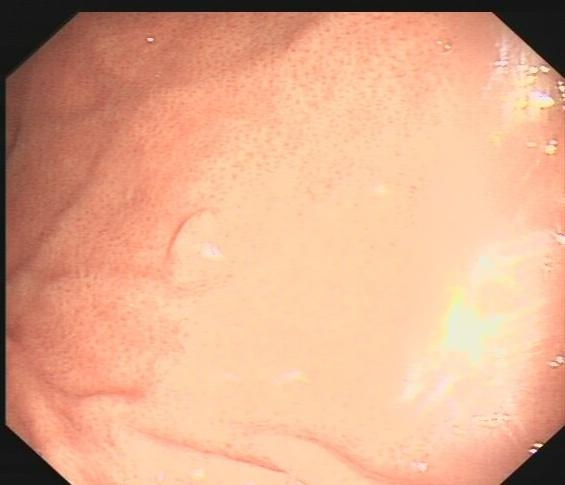Polyp: (172, 204, 237, 281)
